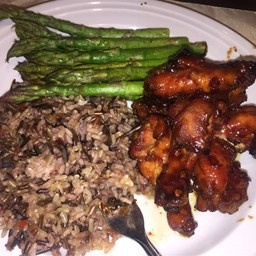background: (0, 1, 102, 102)
